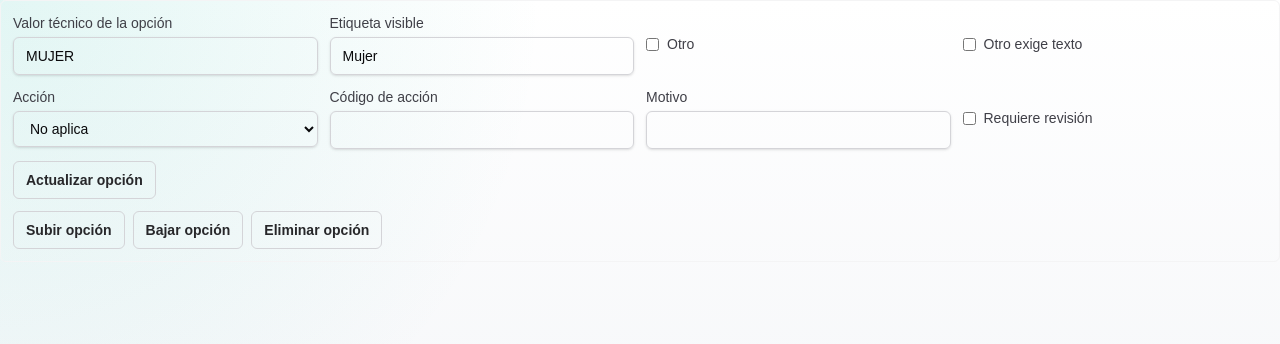
Test: OptionEditForm › muestra confirmación y conserva los datos actualizados después de guardar
Select "Terminar filtro" in the dropdown labelled "Acción" at (165, 129), box x1=13 y1=111 x2=318 y2=147
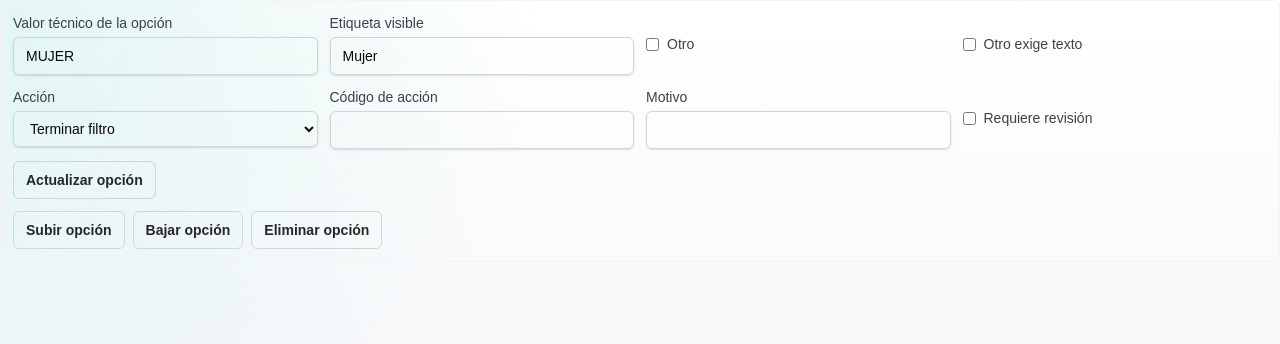
Type "GENERO_NO_ELEGIBLE" into the field labelled "Código de acción" at (482, 130), box x1=330 y1=111 x2=634 y2=149
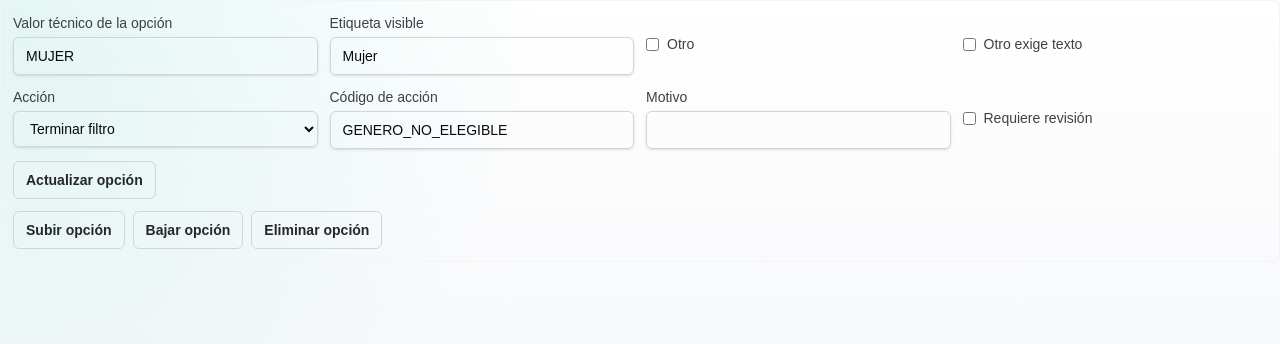
Type "El estudio está dirigido a hombres." into the field labelled "Motivo" at (798, 130), box x1=646 y1=111 x2=950 y2=149
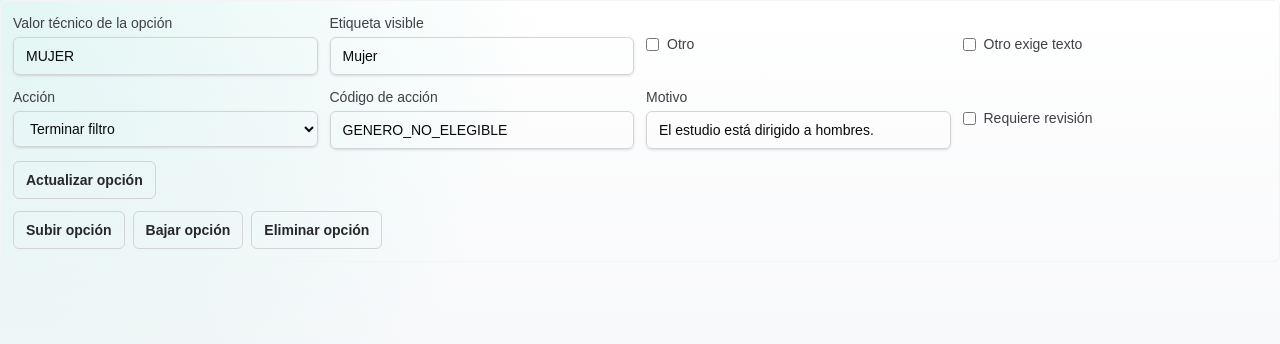
Click the button "Actualizar opción" at (84, 180), box x1=13 y1=161 x2=156 y2=199
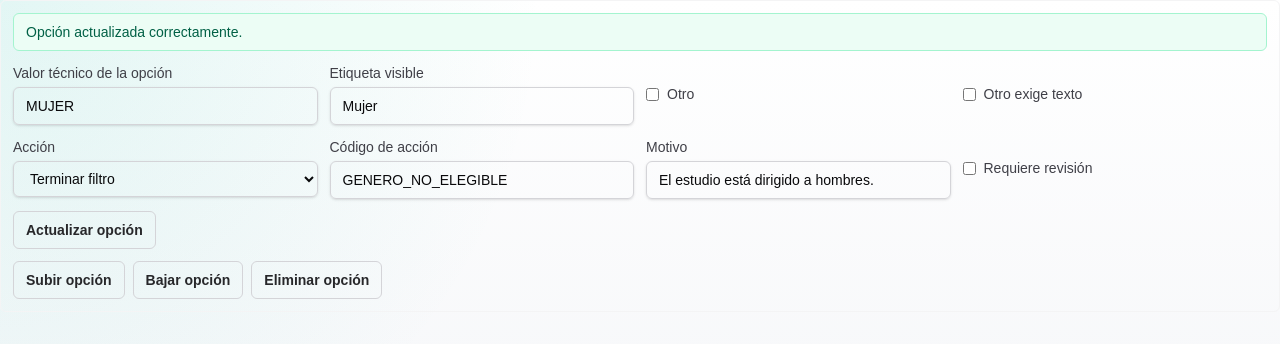
Check: the message reads "Opción actualizada correctamente.", box x1=26 y1=24 x2=242 y2=40
